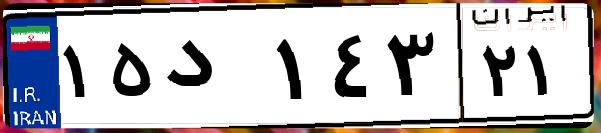1: (270, 28, 330, 110), (57, 26, 110, 100), (525, 38, 570, 115)
2: (475, 38, 525, 113)
3: (385, 28, 445, 110)
4: (330, 28, 385, 110)
5: (110, 28, 158, 98)
د: (158, 20, 270, 120)
